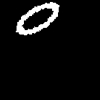chain: (16, 2, 58, 34)
